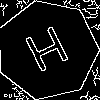H: (22, 25, 76, 82)
